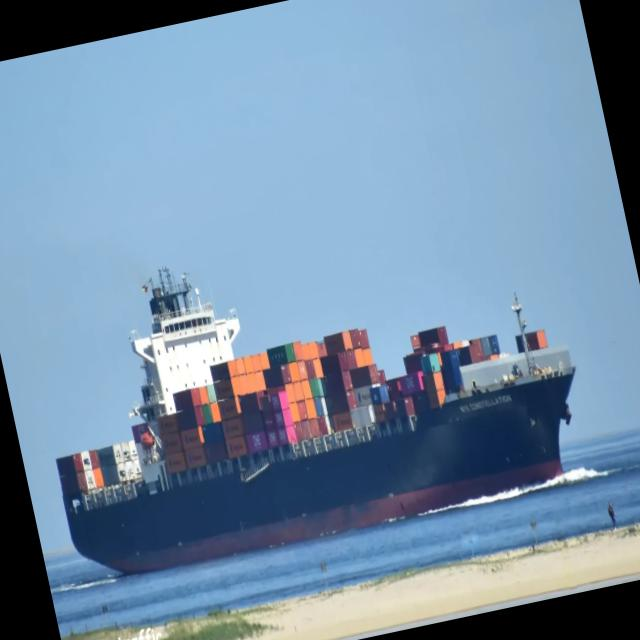Cargo: (56, 268, 574, 573)
